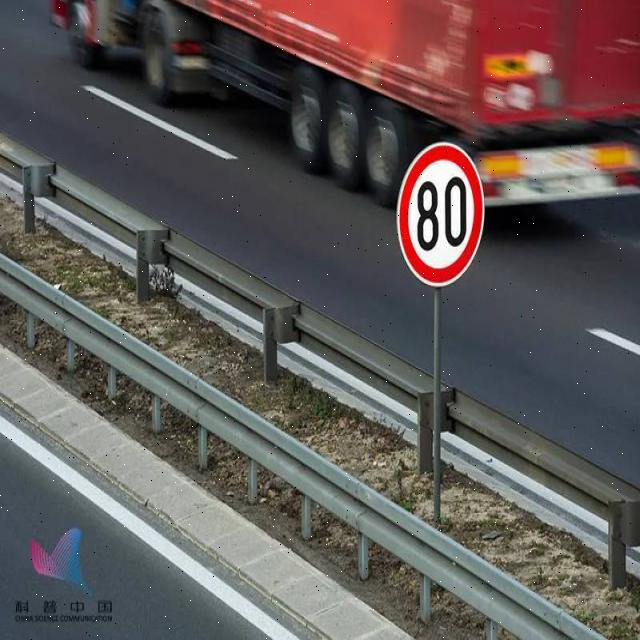speed limit 80: (397, 143, 485, 287)
